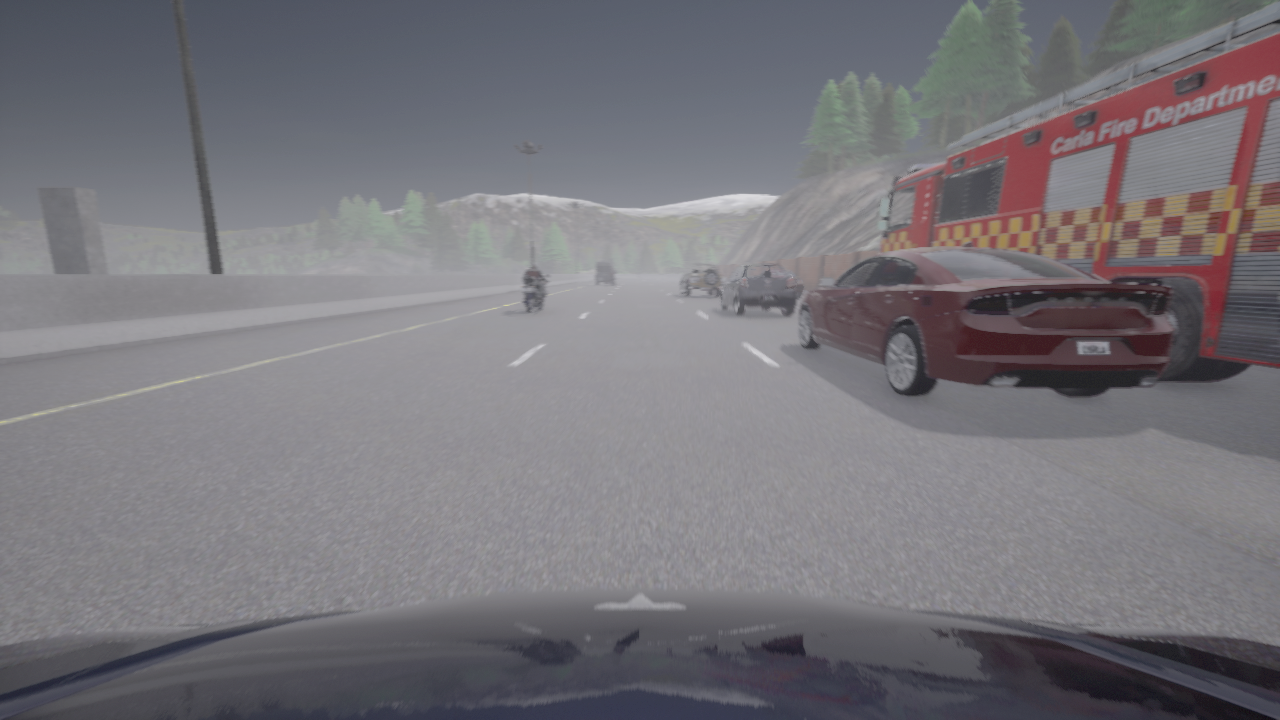cyclist: (0, 588, 1279, 719), (875, 2, 1279, 381), (798, 242, 1173, 396), (720, 263, 795, 315), (679, 262, 723, 296), (521, 274, 549, 312), (784, 269, 804, 298), (594, 261, 615, 284)
